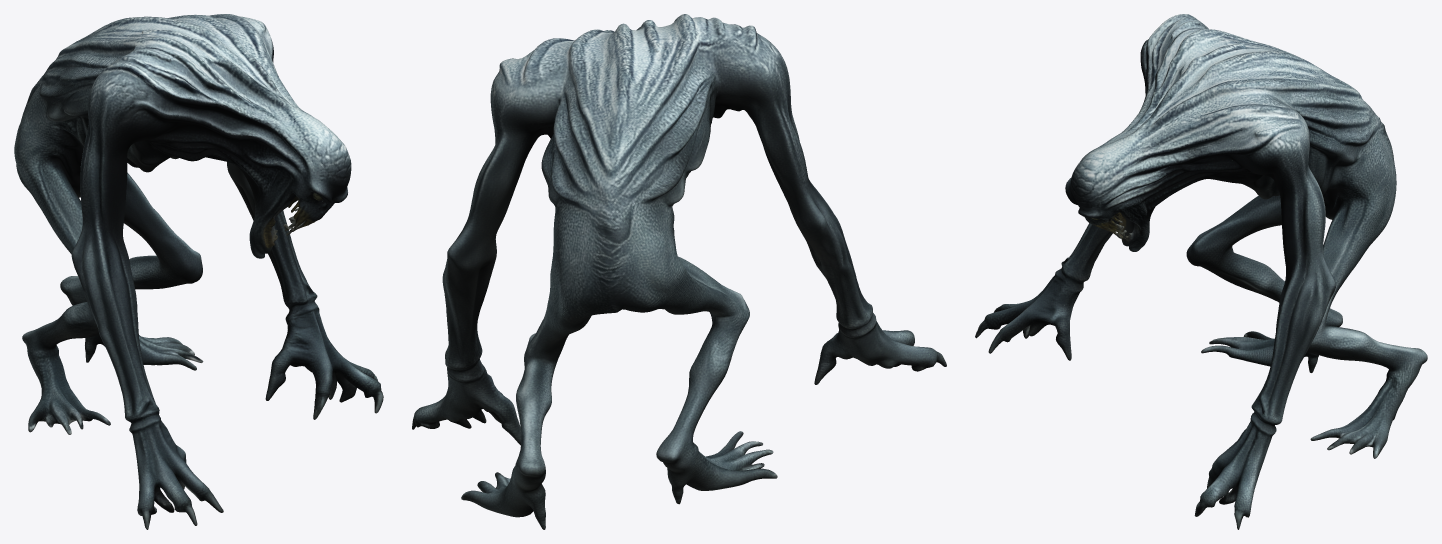
The model's file is sou4.glb.
The picture shows the model from 3 angles, left to right: view 1: azimuth 30°, elevation 25°; view 2: azimuth 150°, elevation 25°; view 3: azimuth 270°, elevation 25°; orthographic projection. The views are drawn at different scales.
Size of the model in its own units: 0.7544 by 0.8389 by 0.8767.
1 material, 1 textured.
